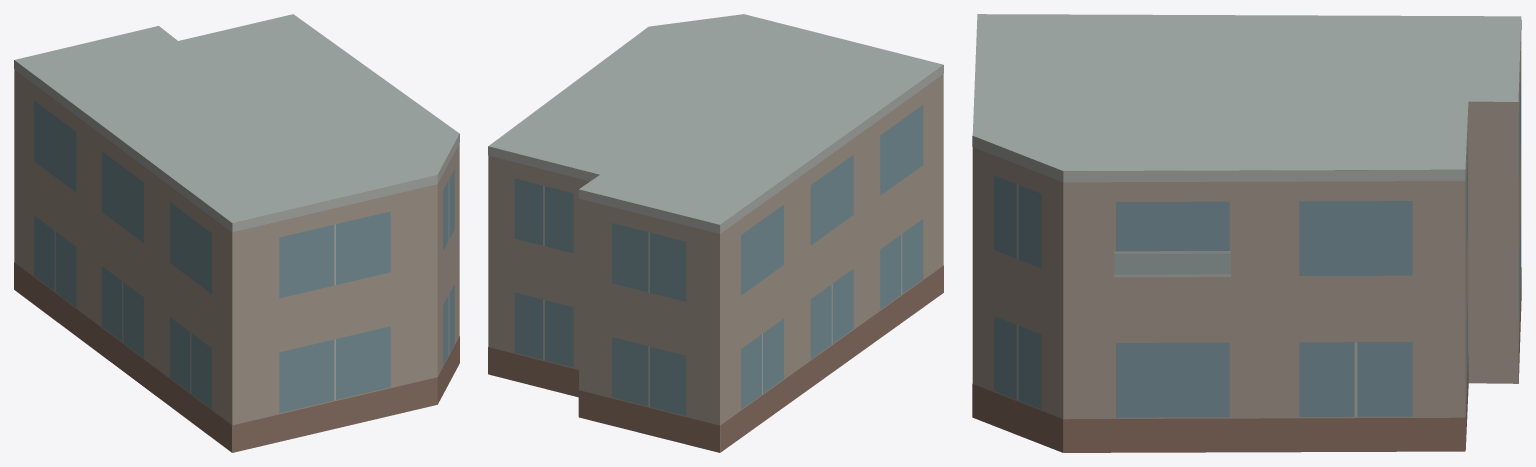
File: survey-upis-32812503.glb
3 renders of one model, left to right at view 1: azimuth 30°, elevation 25°; view 2: azimuth 150°, elevation 25°; view 3: azimuth 270°, elevation 25°, orthographic. The views are drawn at different scales.
Visible parts, largest first — view 1: survey-upis-32812503.tmp; view 2: survey-upis-32812503.tmp; view 3: survey-upis-32812503.tmp.
Part boxes in pixels (bbox=[...]): survey-upis-32812503.tmp: bbox=[14, 14, 459, 452]; survey-upis-32812503.tmp: bbox=[488, 14, 943, 452]; survey-upis-32812503.tmp: bbox=[972, 14, 1521, 452].
Size of the model in its own units: 7.33 by 6.1 by 10.78.
